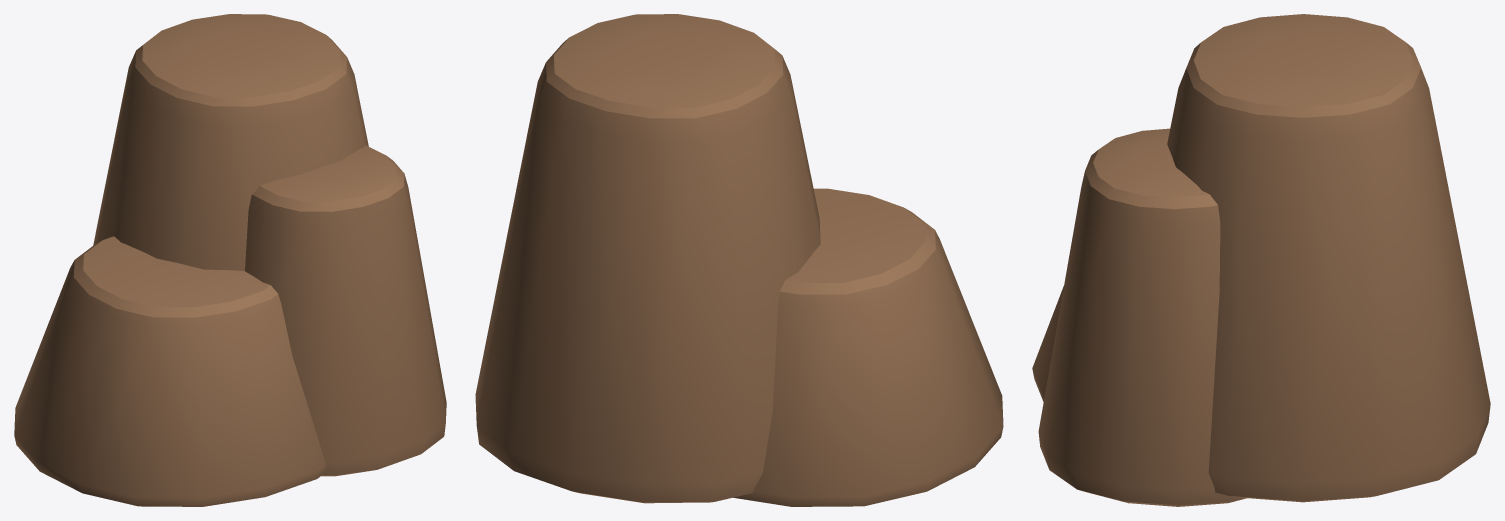
Rendered from RockPlatforms_1.glb.
3 renders of one model, left to right at view 1: azimuth 30°, elevation 25°; view 2: azimuth 150°, elevation 25°; view 3: azimuth 270°, elevation 25°, orthographic. The views are drawn at different scales.
Parts seen in each view (by area): view 1: RockPlatforms_1; view 2: RockPlatforms_1; view 3: RockPlatforms_1.
Part boxes in pixels (x1=…): RockPlatforms_1: x1=14, y1=14, x2=446, y2=506; RockPlatforms_1: x1=475, y1=14, x2=1003, y2=506; RockPlatforms_1: x1=1032, y1=14, x2=1490, y2=506.
Bounding box in the file's own units: 6.4 × 5.53 × 5.88.
